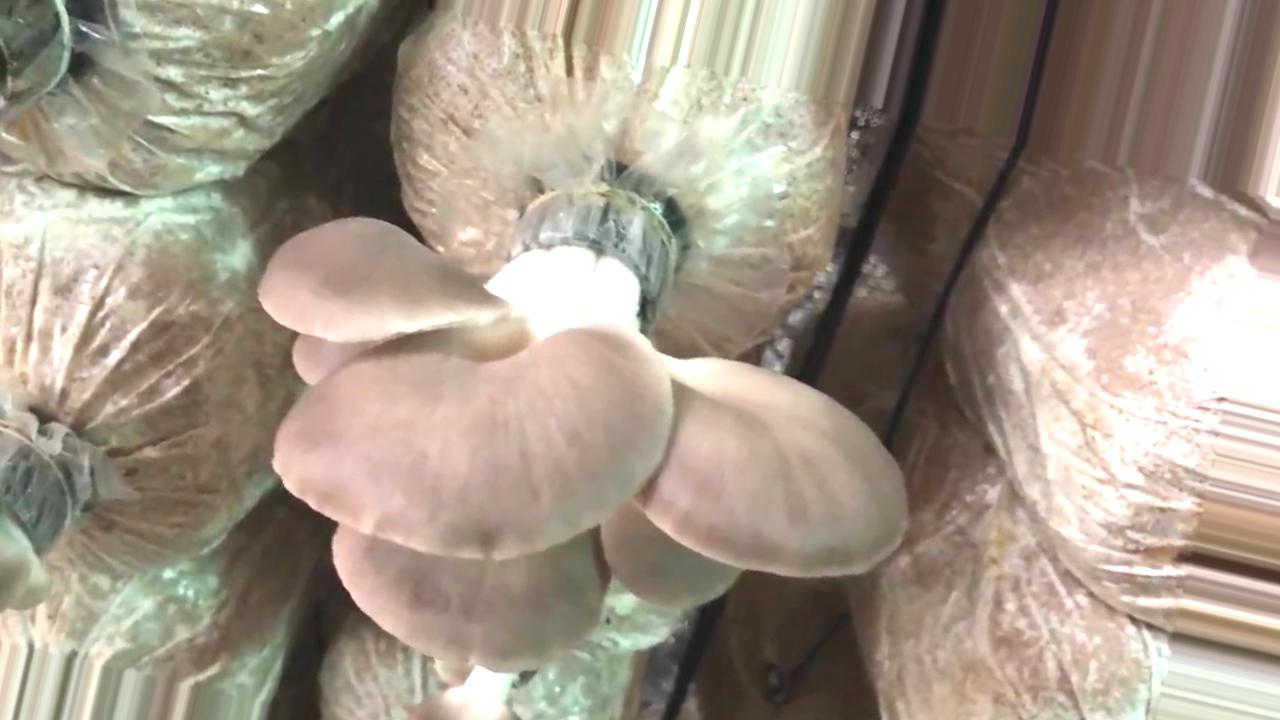nam: (259, 197, 911, 672)
